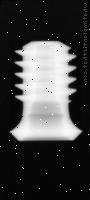Blue Sky Bio: (10, 40, 82, 141)
